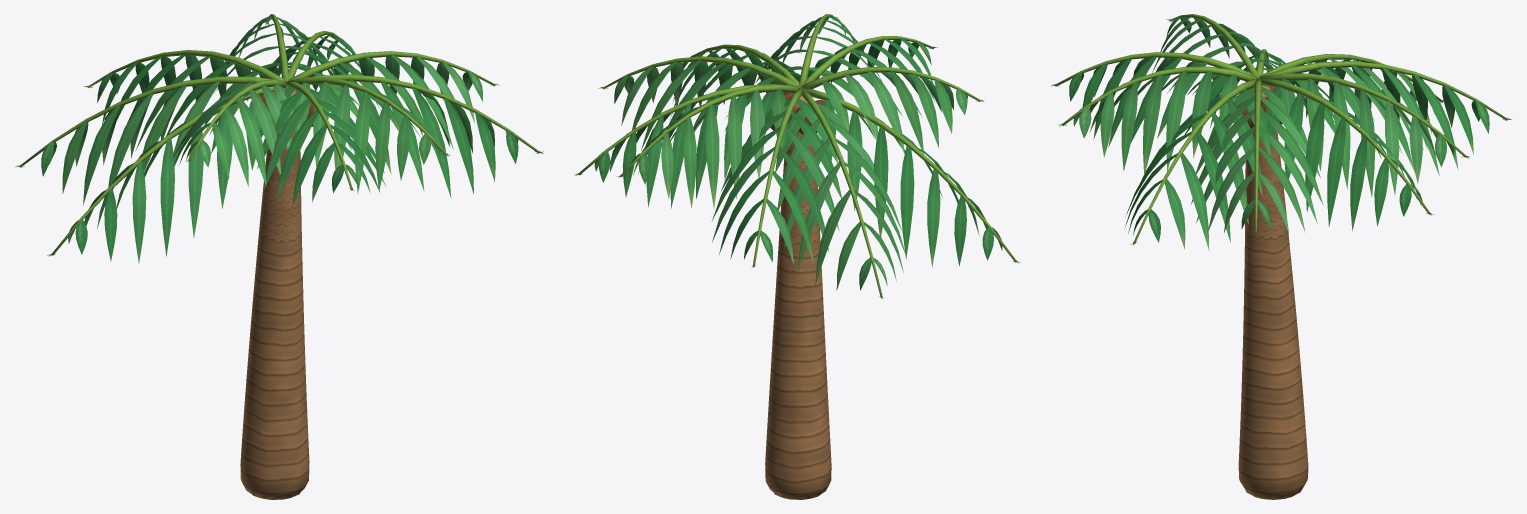
The model's file is palm_c.glb.
The picture shows the model from 3 angles, left to right: view 1: azimuth 30°, elevation 25°; view 2: azimuth 150°, elevation 25°; view 3: azimuth 270°, elevation 25°; orthographic projection. The views are drawn at different scales.
Visible parts, largest first — view 1: Crown_leaf, Trunk; view 2: Crown_leaf, Trunk; view 3: Crown_leaf, Trunk.
Boxes of the visible parts, x1,y1,x2,y2 form: Crown_leaf: (15,14,543,263); Trunk: (240,90,309,499); Crown_leaf: (574,14,1020,298); Trunk: (765,94,831,499); Crown_leaf: (1051,14,1511,250); Trunk: (1238,86,1308,499).
Bounding box in the file's own units: 5.32 × 5.01 × 4.78.
Materials: 1 (1 with a texture image).
